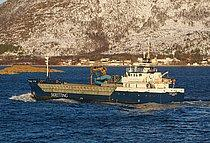Ship: (27, 45, 192, 118)
